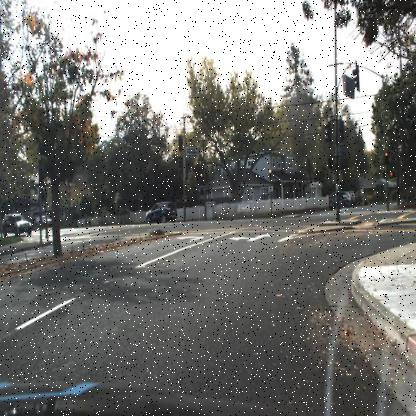car: (143, 199, 177, 224), (2, 211, 33, 236), (328, 193, 349, 210), (35, 213, 52, 226)
trafficLight: (268, 166, 272, 178)
trafficLight-Red: (384, 150, 388, 165), (198, 172, 202, 182)
